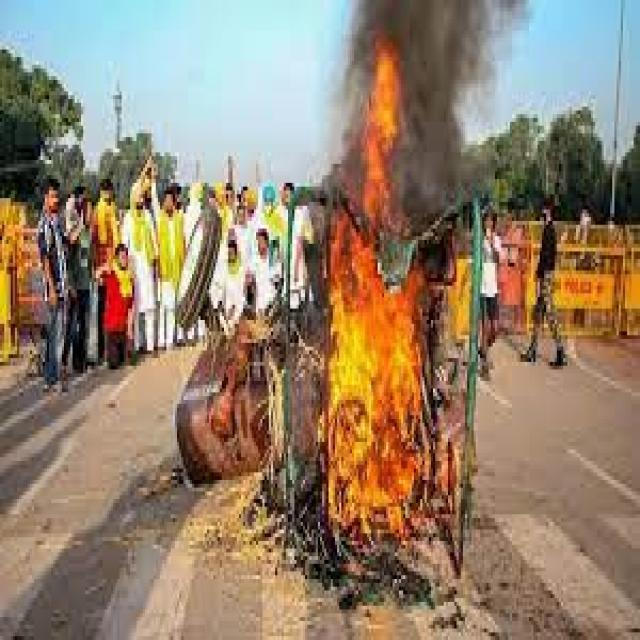Fire: (329, 211, 469, 533), (362, 31, 404, 213)
Smoke: (407, 0, 497, 212), (331, 34, 362, 212), (354, 0, 442, 33)
